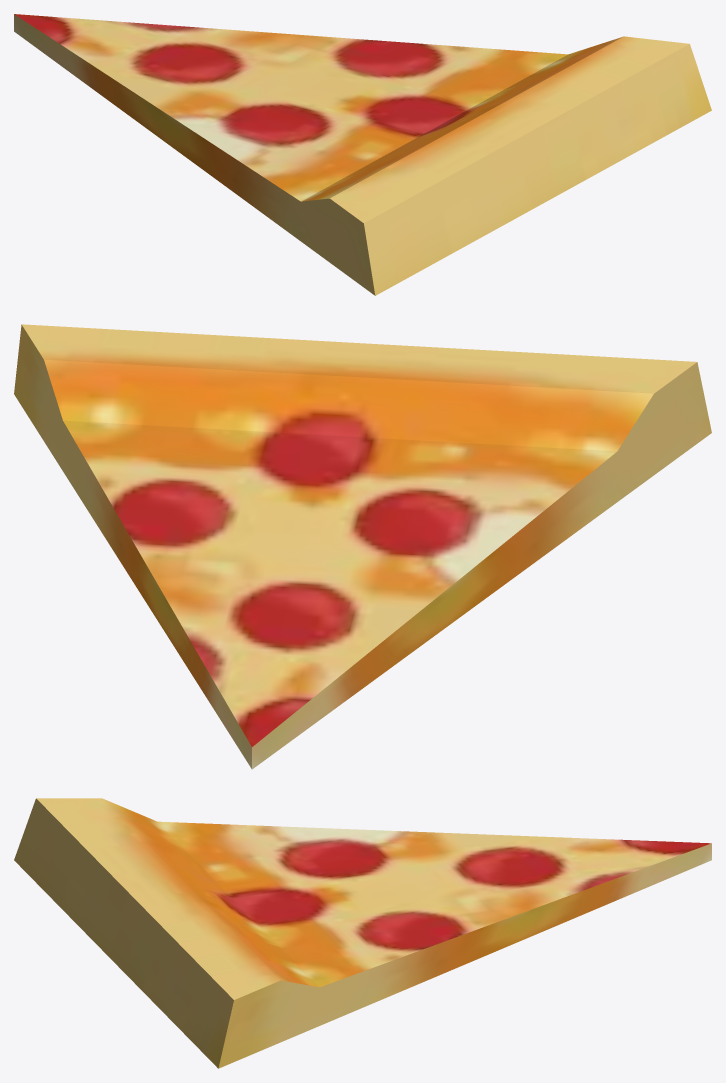
Rendered from quaternius-junk-food-pizza.glb.
The picture shows the model from 3 angles, top to bottom: view 1: azimuth 30°, elevation 25°; view 2: azimuth 150°, elevation 25°; view 3: azimuth 270°, elevation 25°; orthographic projection. The views are drawn at different scales.
Parts seen in each view (by area): view 1: Pizza; view 2: Pizza; view 3: Pizza.
Part boxes in pixels (x1,y1,x2,y2): Pizza: (14, 14, 711, 295); Pizza: (14, 324, 711, 769); Pizza: (14, 798, 711, 1068).
Bounding box in the file's own units: 0.7071 × 0.098 × 1.
Materials: 1 (1 with a texture image).
